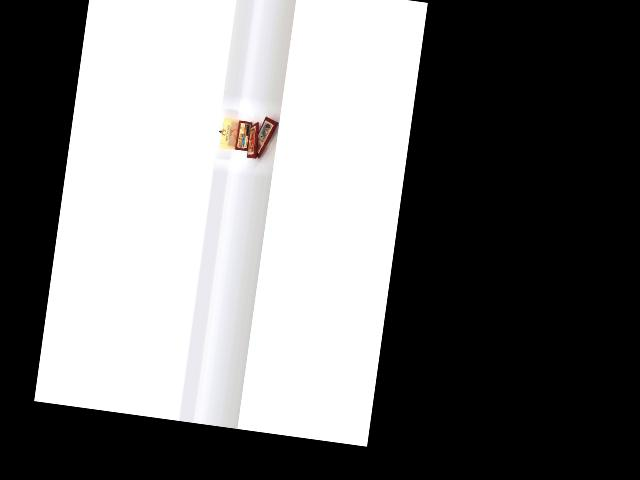chocolate: (251, 107, 283, 162)
